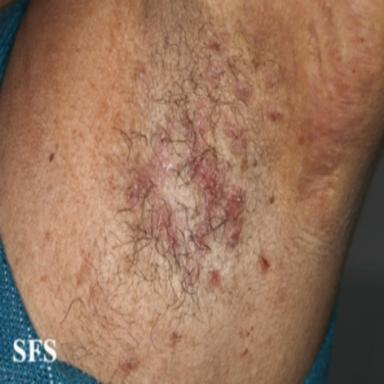Hailey-Hailey-Disease: (119, 33, 290, 327)
